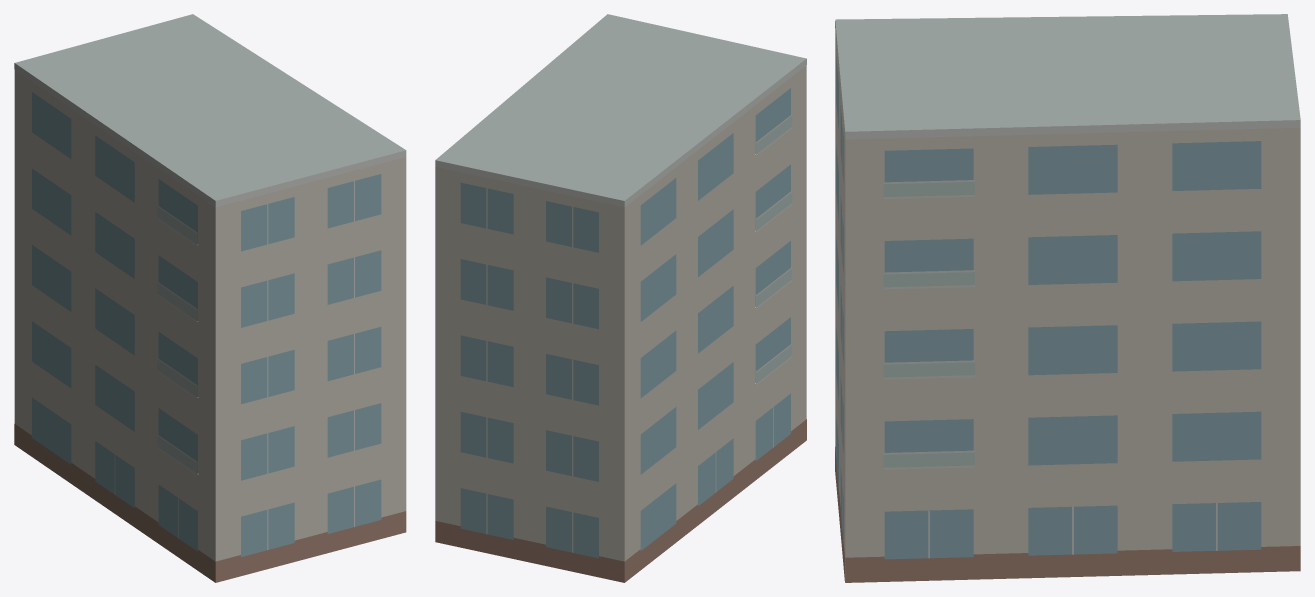
File: survey-upis-32744326.glb
3 views of the same model, side by side, from view 1: azimuth 30°, elevation 25°; view 2: azimuth 150°, elevation 25°; view 3: azimuth 270°, elevation 25° (orthographic). The views are drawn at different scales.
Visible parts, largest first — view 1: survey-upis-32744326.tmp; view 2: survey-upis-32744326.tmp; view 3: survey-upis-32744326.tmp.
Part boxes in pixels (x1,y1,x2,y2): survey-upis-32744326.tmp: (14,14,406,582); survey-upis-32744326.tmp: (435,14,806,582); survey-upis-32744326.tmp: (835,14,1300,582).
Size of the model in its own units: 8.02 by 14.3 by 13.39.
